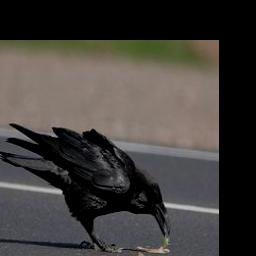Crow: (0, 122, 171, 251)
